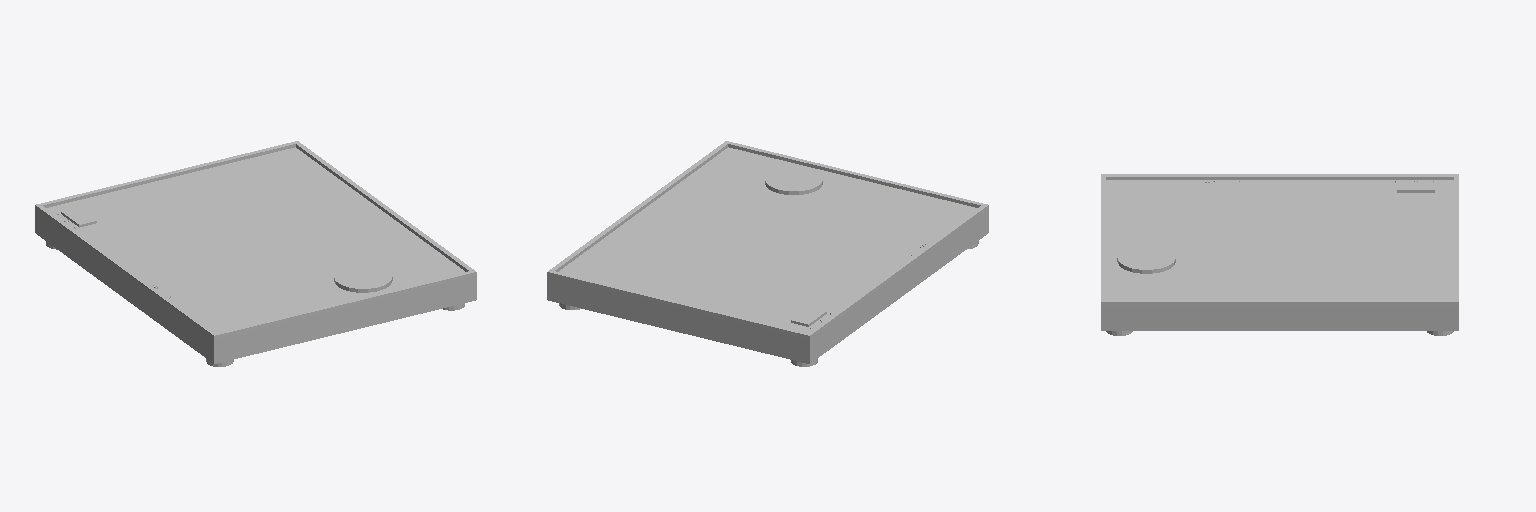
Rendered from gd_fixed.obj.
The picture shows the model from 3 angles: view 1: azimuth 30°, elevation 25°; view 2: azimuth 150°, elevation 25°; view 3: azimuth 270°, elevation 25°; orthographic projection.
Visible parts, largest first — view 1: base_top, base, basetestina; view 2: base_top, base, basetestina; view 3: base_top, base, basetestina.
Part boxes in pixels (left/top/right/bottom): base_top: left=46, top=147, right=464, bottom=332; base: left=35, top=141, right=476, bottom=363; basetestina: left=334, top=264, right=392, bottom=292; base_top: left=559, top=147, right=977, bottom=332; base: left=547, top=141, right=988, bottom=363; basetestina: left=765, top=167, right=822, bottom=194; base_top: left=1106, top=180, right=1453, bottom=299; base: left=1101, top=174, right=1458, bottom=330; basetestina: left=1117, top=245, right=1175, bottom=273.
Size of the model in its own units: 3.3 by 0.4363 by 3.9.